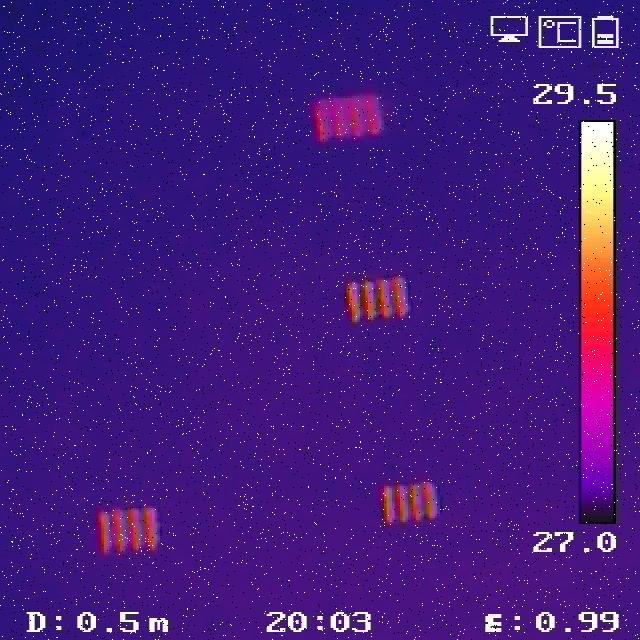Distinguishable 4-bar target: (342, 277, 414, 325), (99, 509, 160, 552)
threshold 4-bar target: (308, 89, 387, 142), (379, 485, 436, 519)
